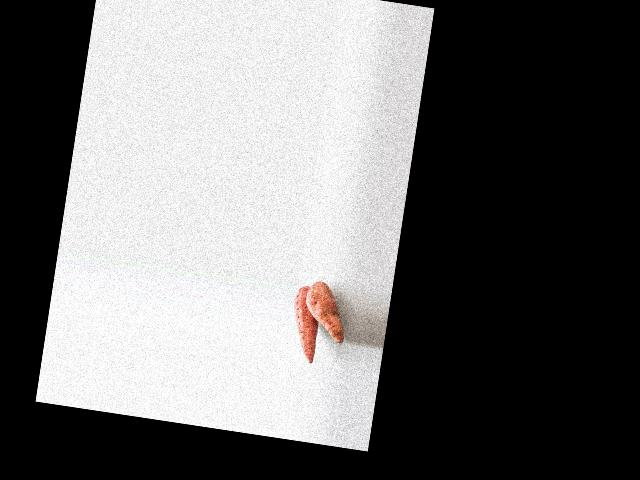sweet_potato: (287, 285, 324, 359)
